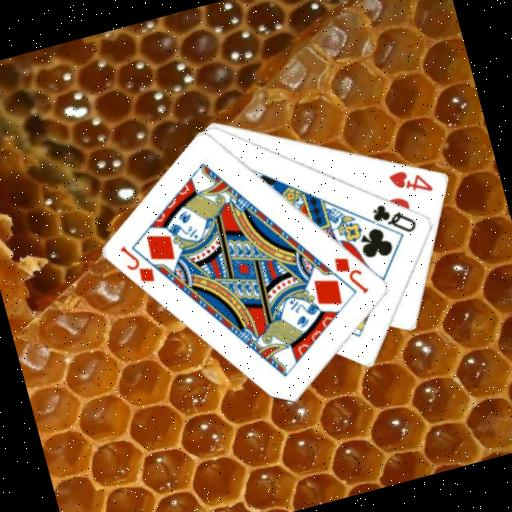4H: (384, 160, 436, 203)
JD: (329, 248, 372, 302), (116, 236, 159, 290)
QC: (366, 193, 420, 242)
